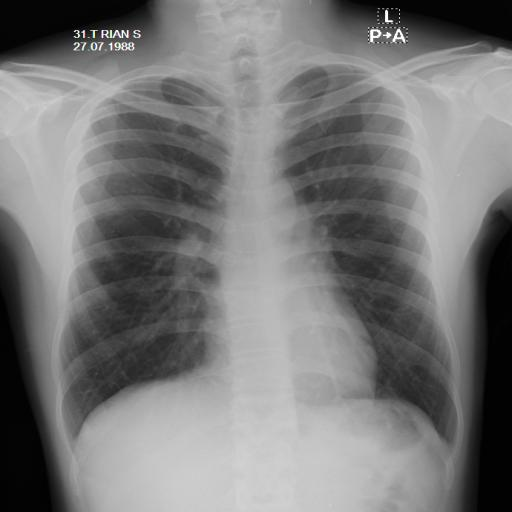normal: (46, 49, 471, 461)
